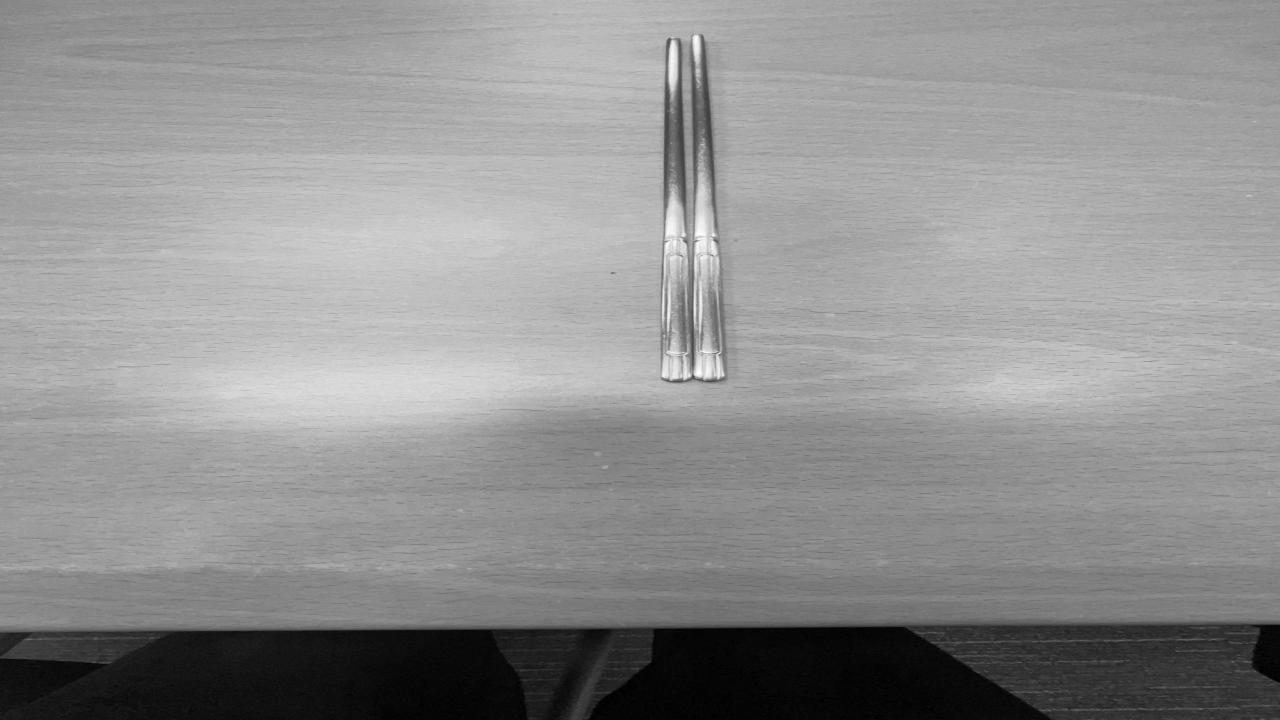chopstick: (656, 31, 728, 391)
